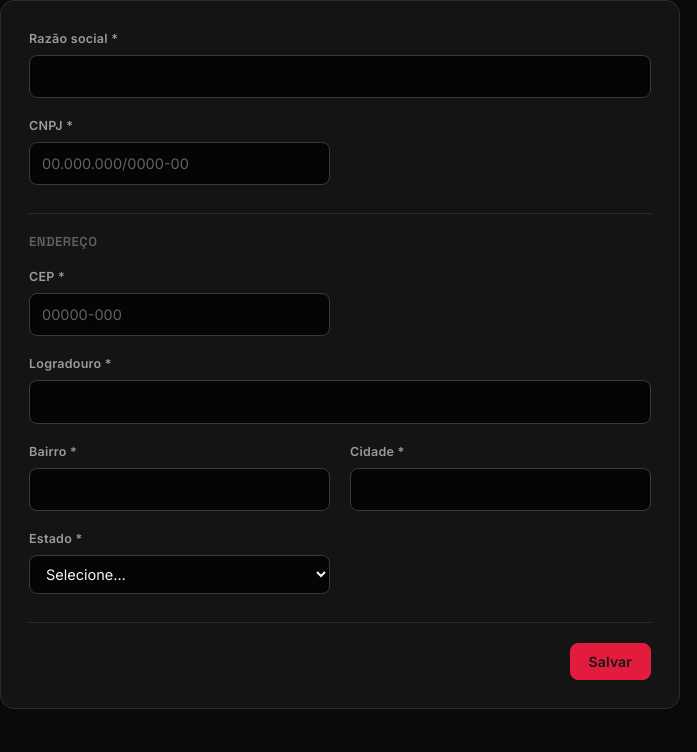
it: DealerForm › shows an error hint when the CEP lookup returns erro
Type "00000000" into the field labelled "CEP *" at (180, 315), box [29,293,330,336]
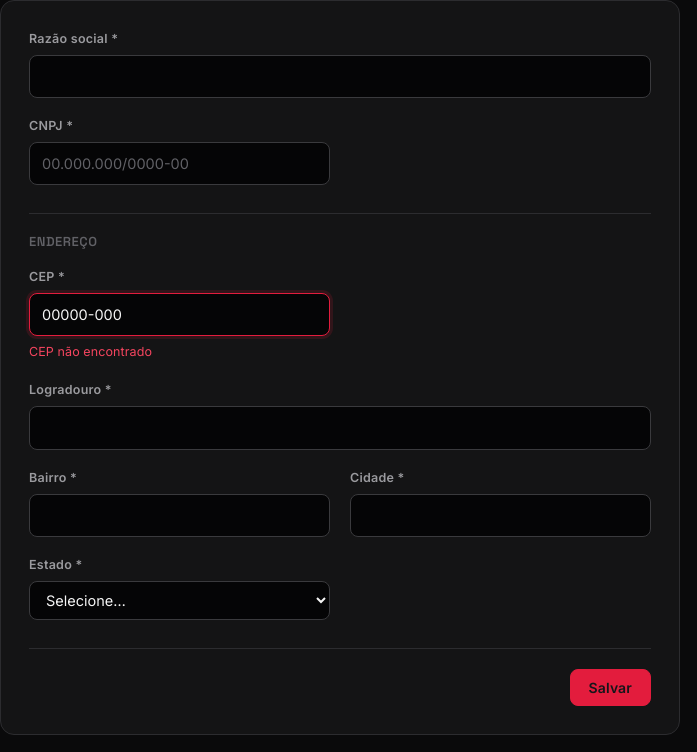
Now the text "CEP não encontrado" is shown, box [29,344,152,360]
